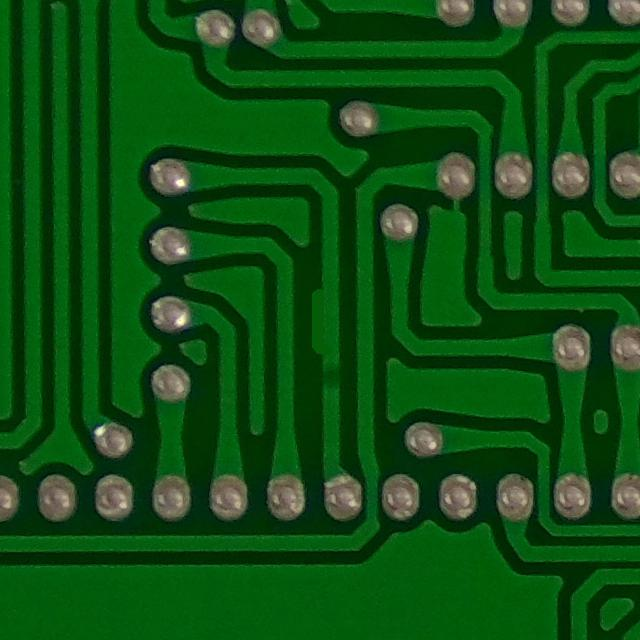spur: (302, 269, 338, 371)
